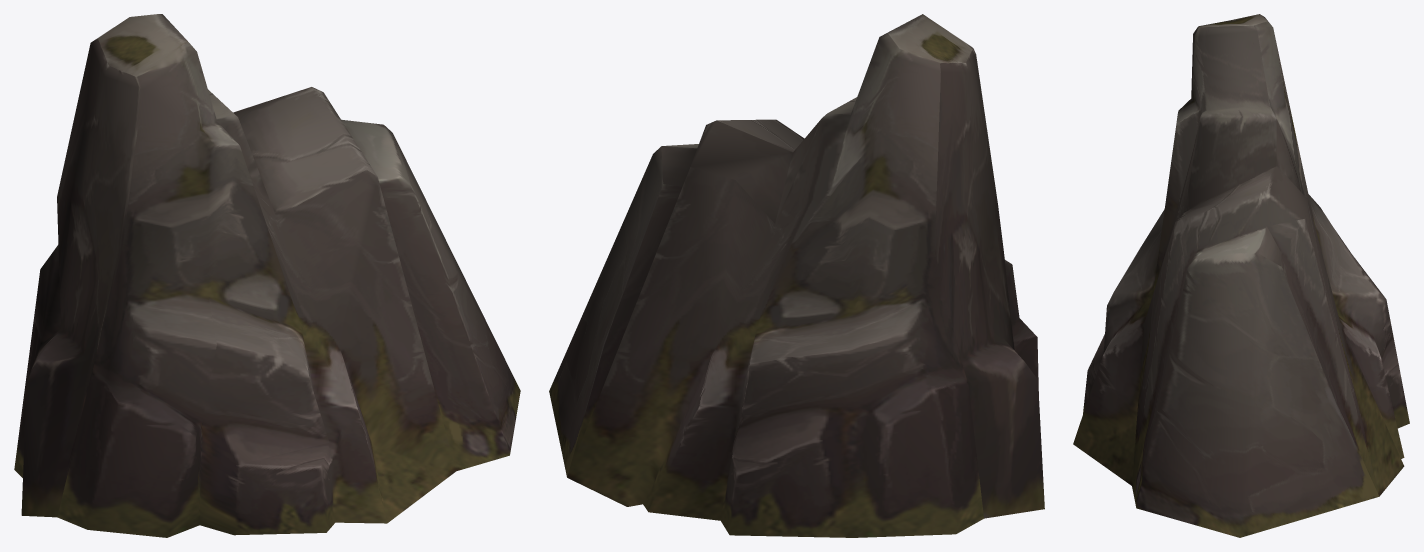
3 renders of one model, left to right at view 1: azimuth 30°, elevation 25°; view 2: azimuth 150°, elevation 25°; view 3: azimuth 270°, elevation 25°, orthographic. The views are drawn at different scales.
Parts seen in each view (by area): view 1: MB0002_28_03_01; view 2: MB0002_28_03_01; view 3: MB0002_28_03_01.
Boxes of the visible parts, x1,y1,x2,y2 form: MB0002_28_03_01: [14, 14, 520, 537]; MB0002_28_03_01: [549, 14, 1044, 537]; MB0002_28_03_01: [1073, 14, 1409, 537].
Size of the model in its own units: 6 by 5.22 by 4.29.
